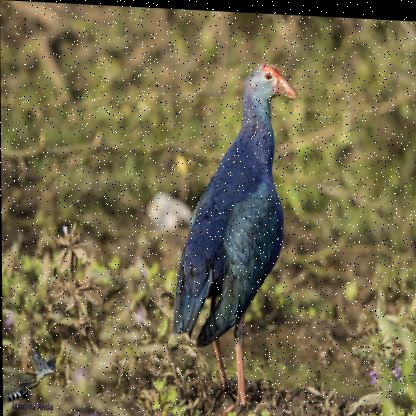Burung: (169, 56, 299, 408)
